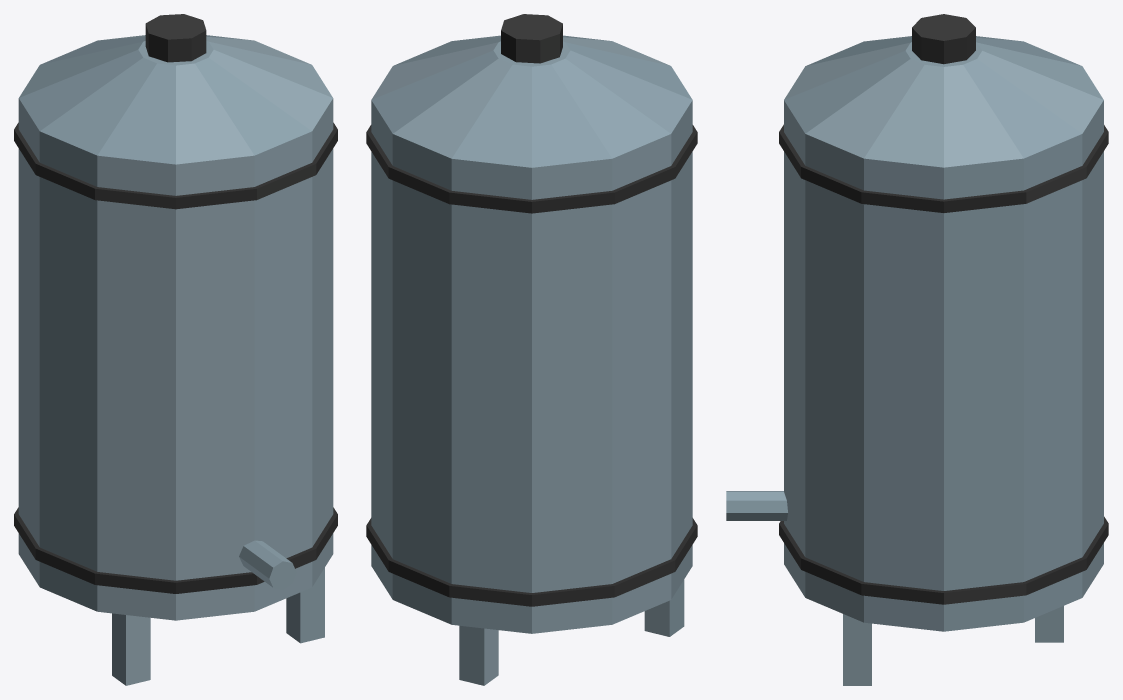
File: N06_ProcessTank.fbx
The picture shows the model from 3 angles, left to right: view 1: azimuth 30°, elevation 25°; view 2: azimuth 150°, elevation 25°; view 3: azimuth 270°, elevation 25°; orthographic projection. The views are drawn at different scales.
Visible parts, largest first — view 1: N06_ProcessTank.003; view 2: N06_ProcessTank.003; view 3: N06_ProcessTank.003.
Boxes of the visible parts, left/top/right/bottom form: N06_ProcessTank.003: left=14, top=14, right=337, bottom=685; N06_ProcessTank.003: left=366, top=14, right=697, bottom=685; N06_ProcessTank.003: left=726, top=14, right=1108, bottom=685.
Size of the model in its own units: 1.03 by 2.1 by 1.2.
